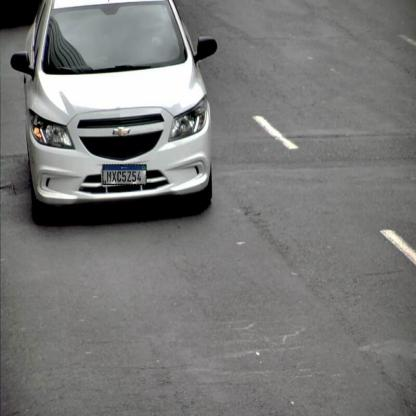PlacaM: (102, 164, 146, 185)
